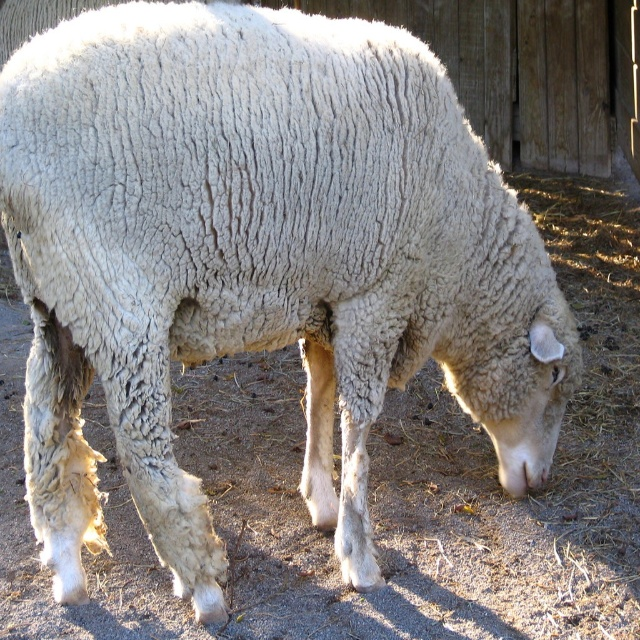Sheep: (0, 0, 584, 625)
